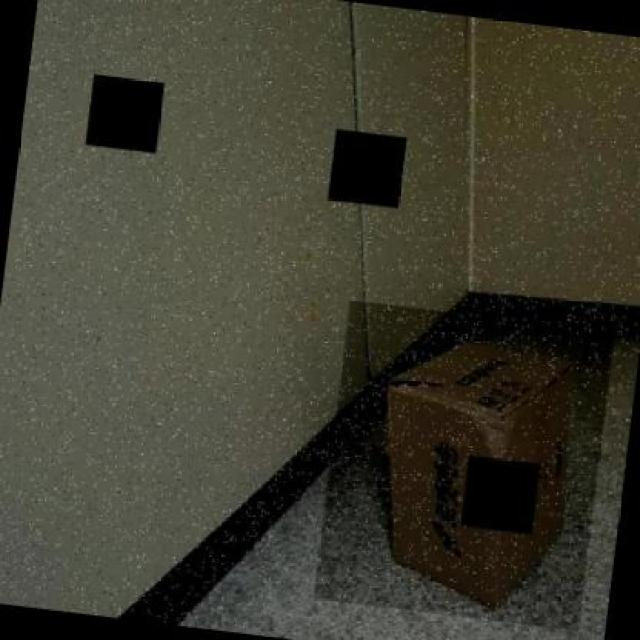box: (312, 299, 614, 630)
